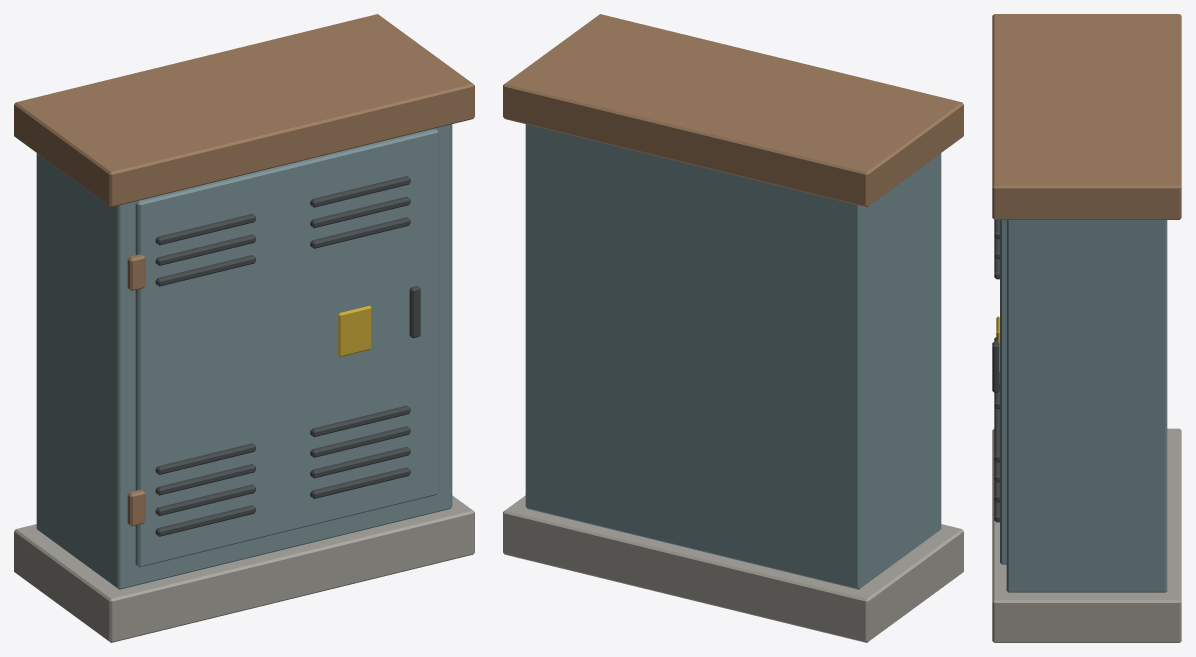
Rendered from SM_LS_UtilityBox.fbx.
3 renders of one model, left to right at view 1: azimuth 30°, elevation 25°; view 2: azimuth 150°, elevation 25°; view 3: azimuth 270°, elevation 25°, orthographic. The views are drawn at different scales.
Visible parts, largest first — view 1: SM_LS_UtilityBox; view 2: SM_LS_UtilityBox; view 3: SM_LS_UtilityBox.
Boxes of the visible parts, x1,y1,x2,y2 form: SM_LS_UtilityBox: [14, 14, 474, 642]; SM_LS_UtilityBox: [503, 14, 963, 642]; SM_LS_UtilityBox: [992, 14, 1181, 642].
Size of what is drawn, in the model's own units: 1.3 by 0.6 by 1.6.
